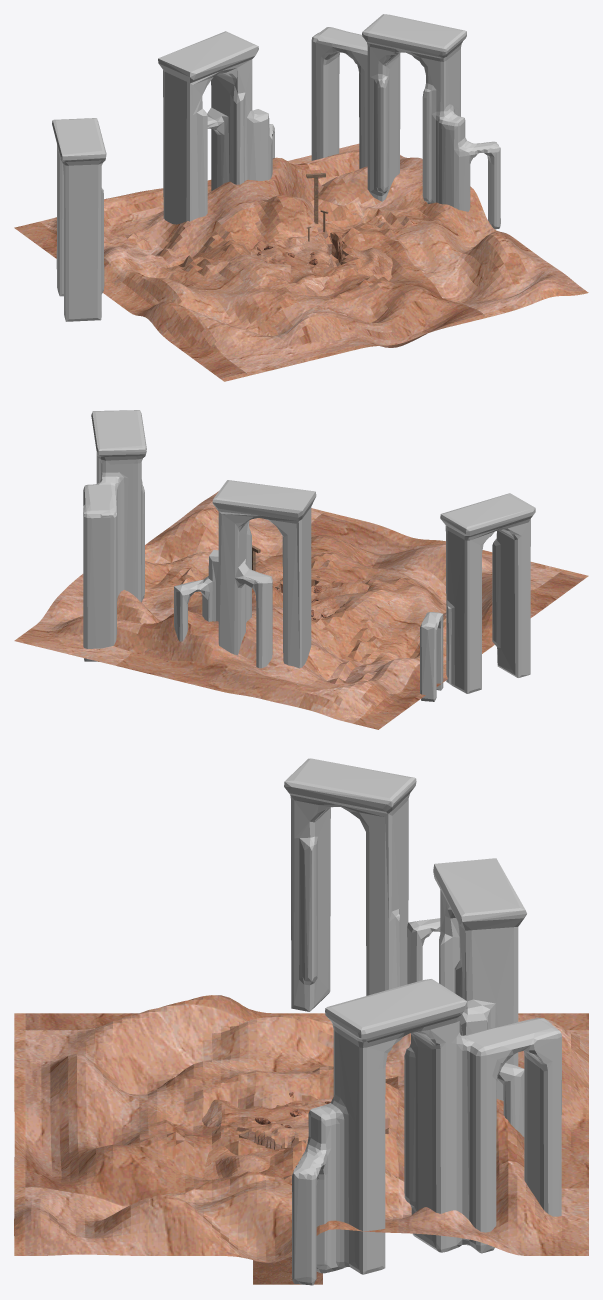
Rendered from desert.obj.
3 views of the same model, one above another, from view 1: azimuth 30°, elevation 25°; view 2: azimuth 150°, elevation 25°; view 3: azimuth 270°, elevation 25° (orthographic). The views are drawn at different scales.
Parts seen in each view (by area): view 1: Plane.001, Cube.007, Cube.008, Cube.009, Plane; view 2: Plane.001, Cube.009, Cube.008, Cube.007, Plane; view 3: Plane.001, Cube.007, Cube.009, Cube.008, Plane, Cube.010.
Part boxes in pixels (x1,y1,x2,y2): Plane.001: [14, 143, 588, 381]; Cube.007: [311, 14, 500, 229]; Cube.008: [158, 31, 274, 224]; Cube.009: [52, 118, 106, 321]; Plane: [250, 223, 392, 292]; Plane.001: [14, 491, 588, 729]; Cube.009: [420, 493, 535, 701]; Cube.008: [174, 480, 316, 668]; Cube.007: [83, 410, 146, 661]; Plane: [261, 565, 369, 619]; Plane.001: [14, 995, 588, 1262]; Cube.007: [292, 979, 561, 1285]; Cube.009: [284, 758, 440, 1011]; Cube.008: [433, 858, 526, 1136]; Plane: [202, 1099, 331, 1179]; Cube.010: [253, 1256, 322, 1284].
Bounding box in the file's own units: 240 × 116 × 201.
